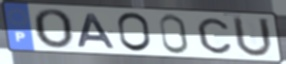0: (157, 12, 191, 56)
A: (75, 12, 118, 50)
C: (195, 16, 234, 55)
O: (31, 8, 75, 51), (115, 11, 154, 54)
U: (231, 15, 276, 59)
